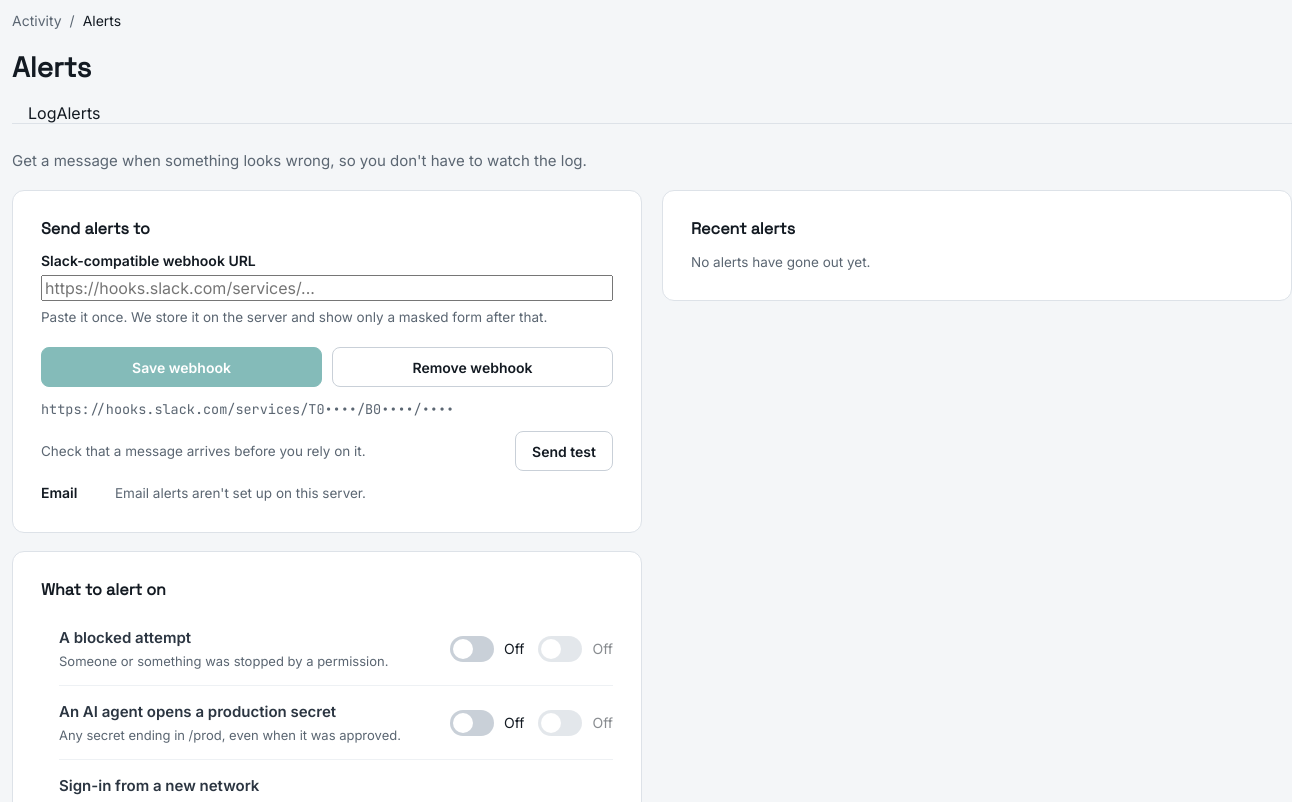
Scenario: Alerts: send test and recent alerts › sends a test and says what happened on each channel
The image size is (1292, 802).
Click the button "Send test" at (564,451), box [515,431,613,471]
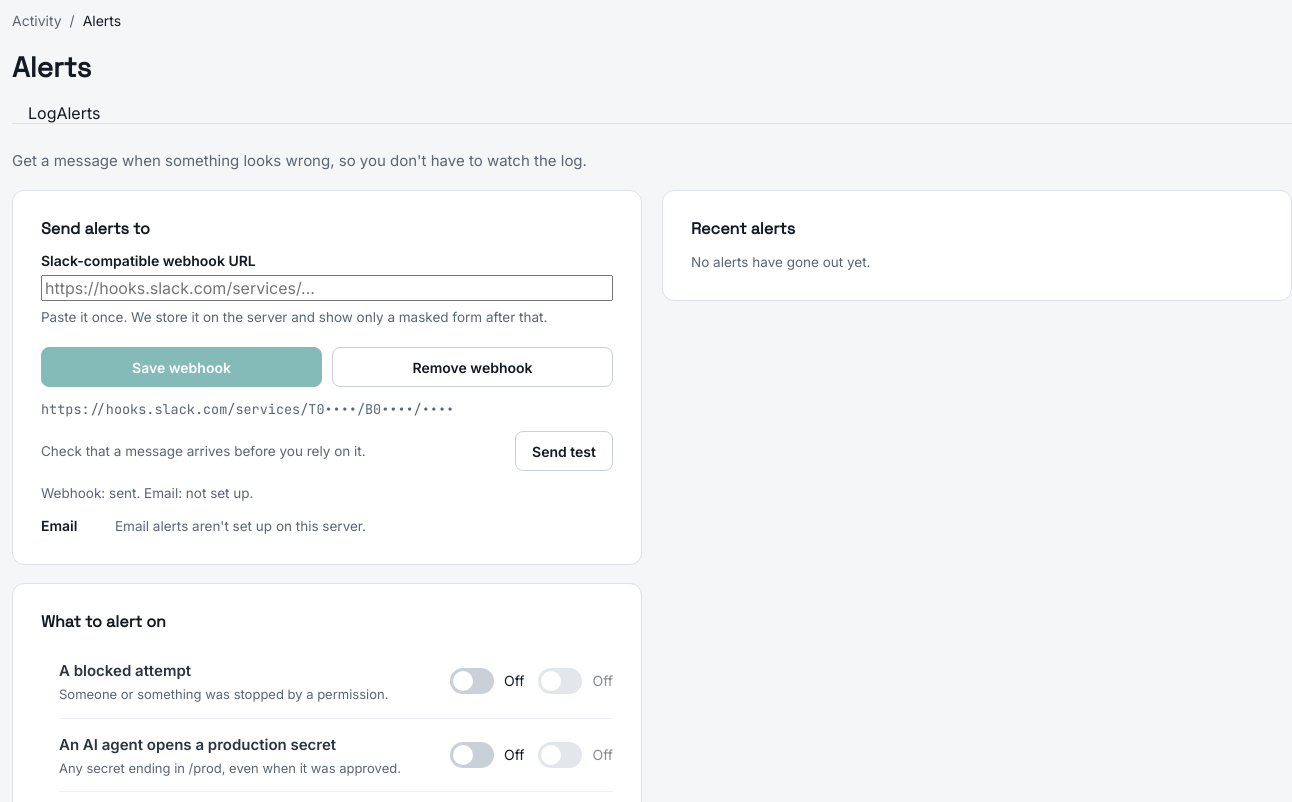
Expected: the text "Webhook: sent. Email: not set up." is shown, [41,485,254,501]
